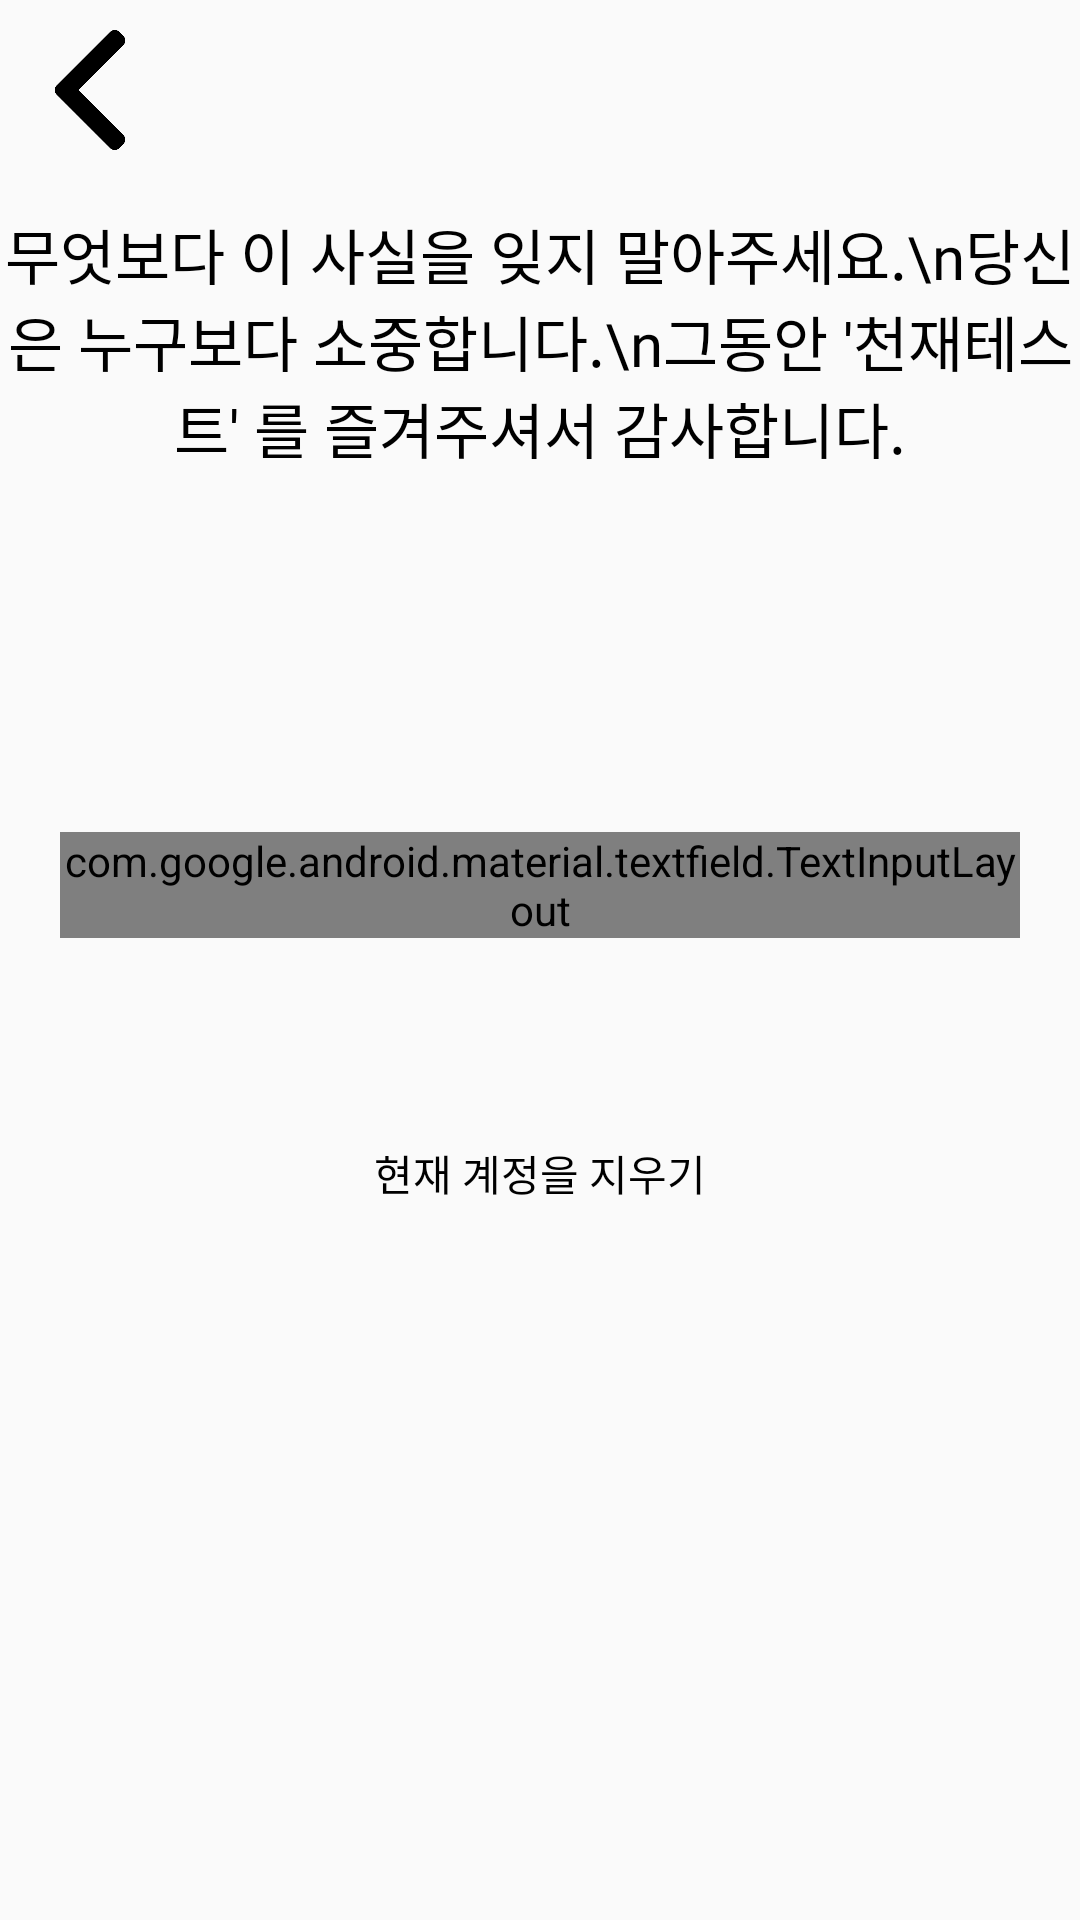

Icons on this 1080*1920 Android screen, each with its box as {"x1": x1, "y1": y1, "x2": x2, "y2": y2}:
left arrow: {"x1": 55, "y1": 30, "x2": 125, "y2": 150}
